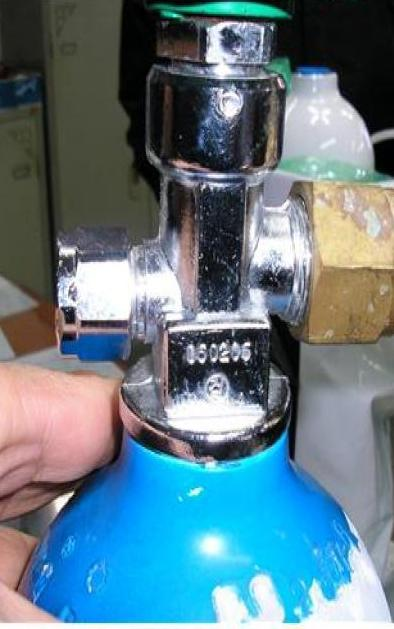cylinder: (1, 1, 394, 629)
